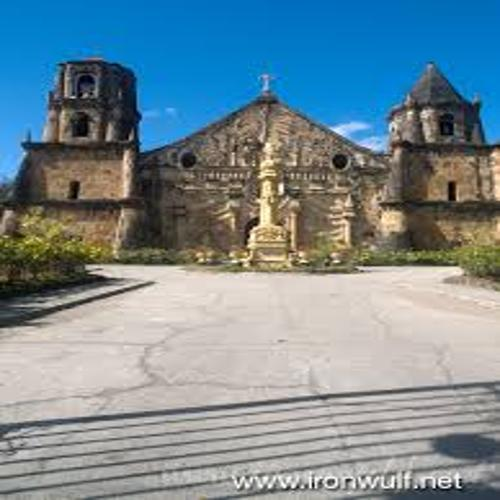Miagao Church: (19, 40, 500, 288)
